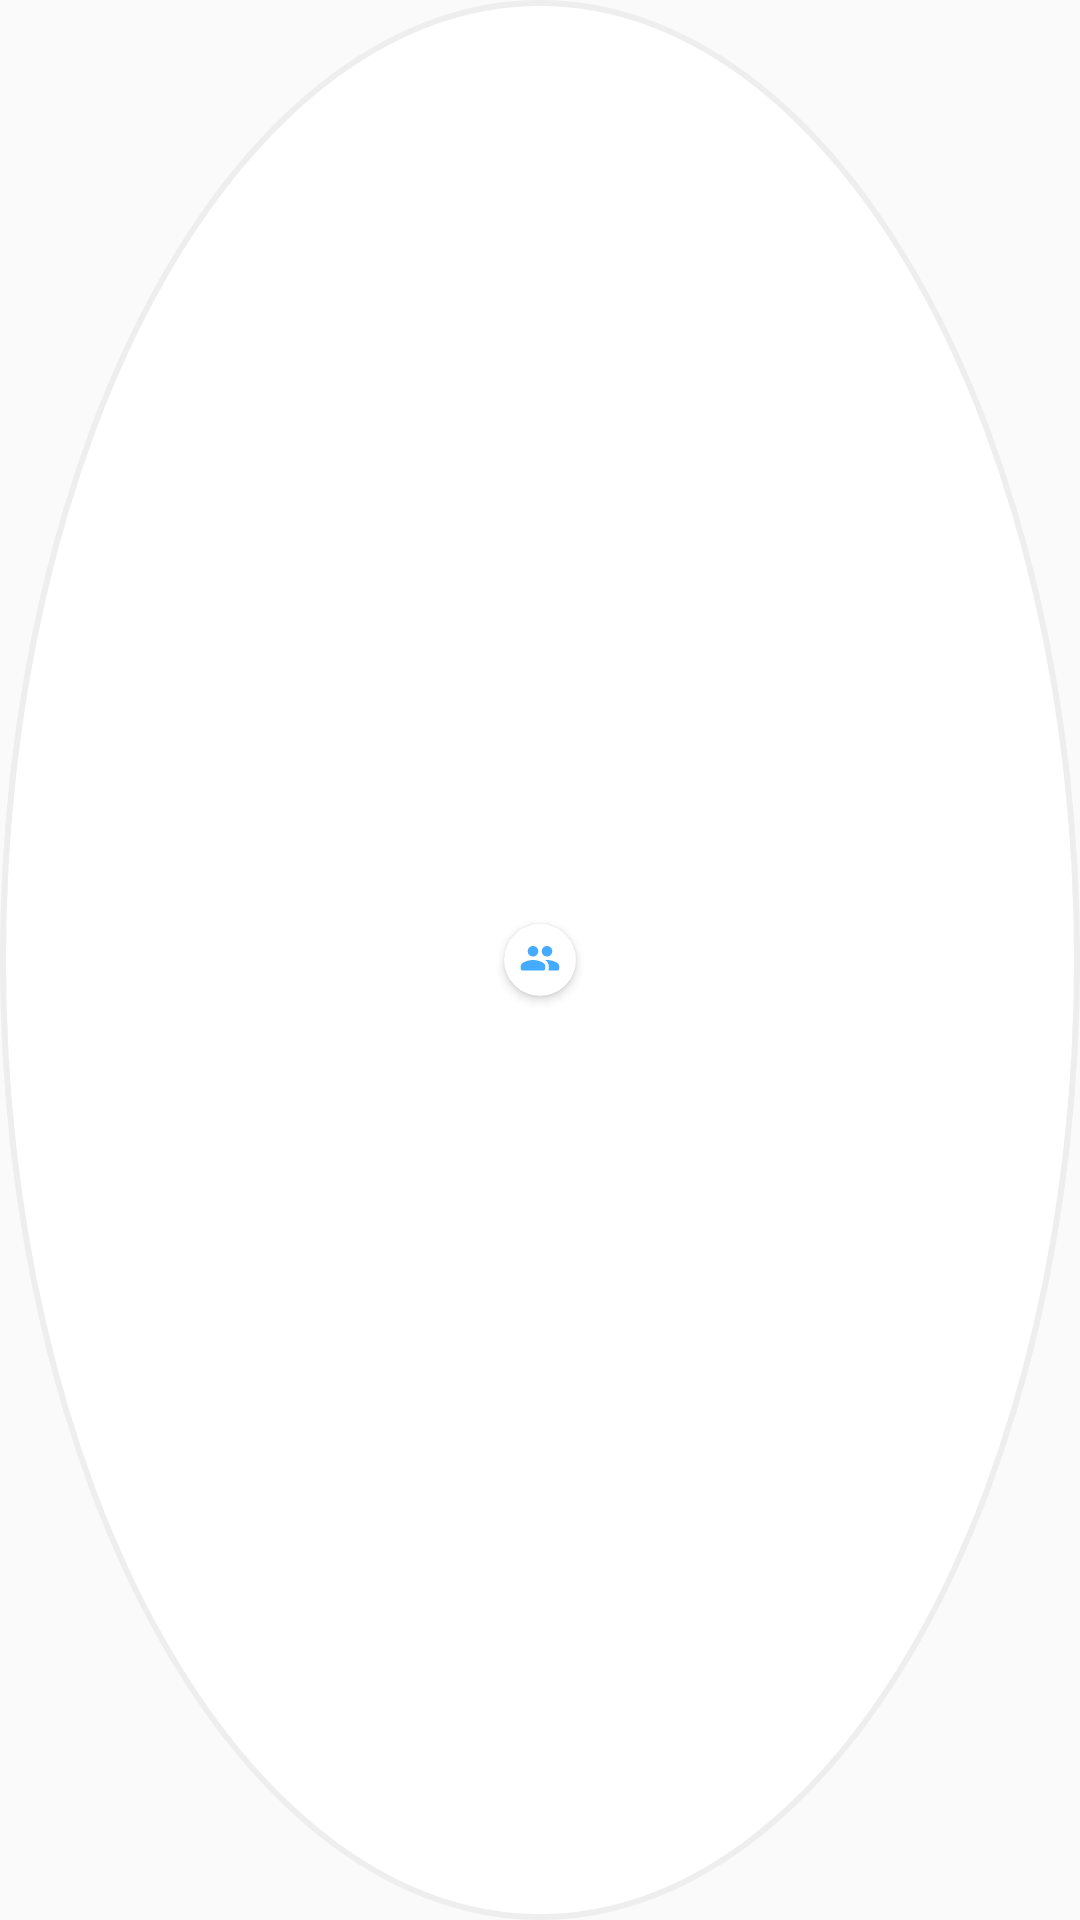

Icon bounding boxes for this 1080px x 1920px phone screenshot, format (x1, y1, x2, y2):
people: (504, 946, 576, 996)
